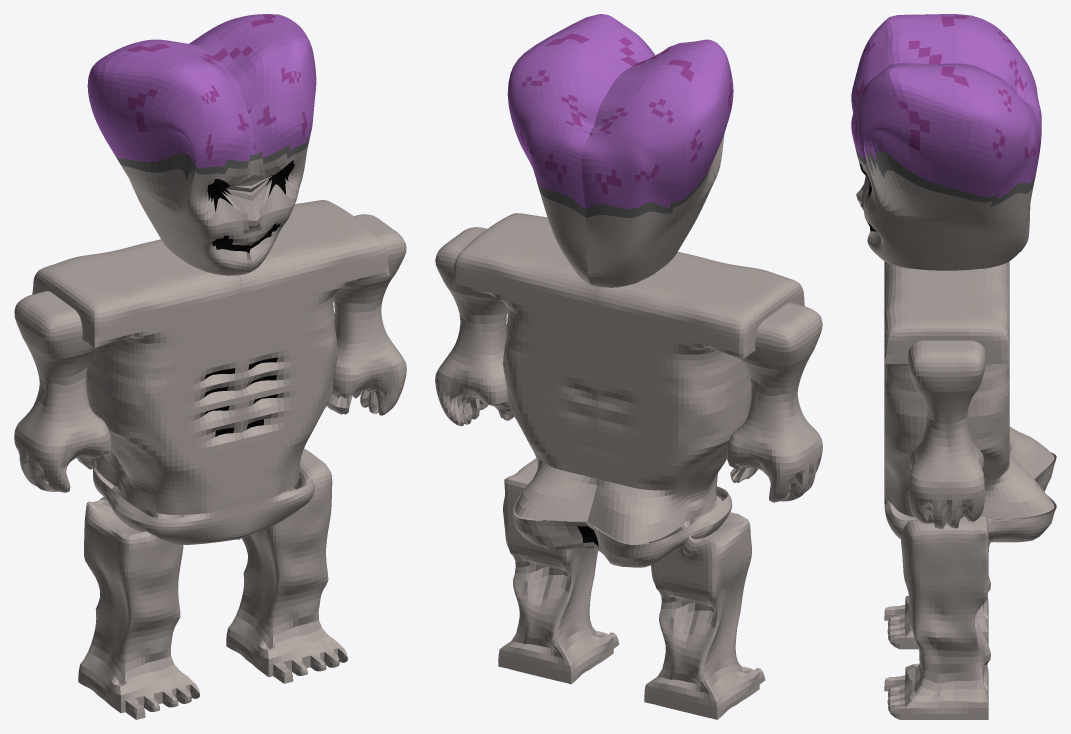
File: mdoll.fbx
The picture shows the model from 3 angles, left to right: view 1: azimuth 30°, elevation 25°; view 2: azimuth 150°, elevation 25°; view 3: azimuth 270°, elevation 25°; orthographic projection. The views are drawn at different scales.
Visible parts, largest first — view 1: Cube.002, Cube.003, Cube.005, Cube, Cube.004, Cube.001; view 2: Cube.002, Cube.003, Cube.005, Cube, Cube.004, Cube.001; view 3: Cube.003, Cube.002, Cube, Cube.001, Cube.005.
Boxes of the visible parts, bbox=[...] form: Cube.002: bbox=[32, 200, 389, 544]; Cube.003: bbox=[87, 14, 316, 275]; Cube.005: bbox=[78, 486, 199, 719]; Cube: bbox=[226, 448, 347, 683]; Cube.004: bbox=[14, 291, 111, 492]; Cube.001: bbox=[326, 214, 406, 415]; Cube.002: bbox=[451, 213, 804, 567]; Cube.003: bbox=[507, 14, 733, 287]; Cube.005: bbox=[644, 495, 765, 719]; Cube: bbox=[498, 458, 619, 684]; Cube.004: bbox=[727, 302, 822, 502]; Cube.001: bbox=[435, 227, 514, 426]; Cube.003: bbox=[851, 14, 1041, 270]; Cube.002: bbox=[884, 261, 1056, 542]; Cube: bbox=[884, 515, 990, 719]; Cube.001: bbox=[908, 340, 985, 528]; Cube.005: bbox=[884, 575, 990, 649].
Bounding box in the file's own units: 2000 × 3299 × 986.
